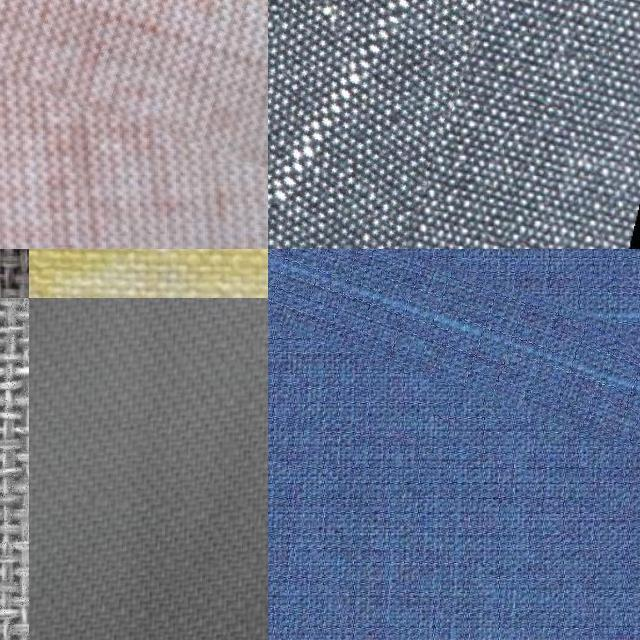Thread_other: (29, 249, 268, 298)
stains: (268, 249, 640, 423), (268, 0, 494, 249)
